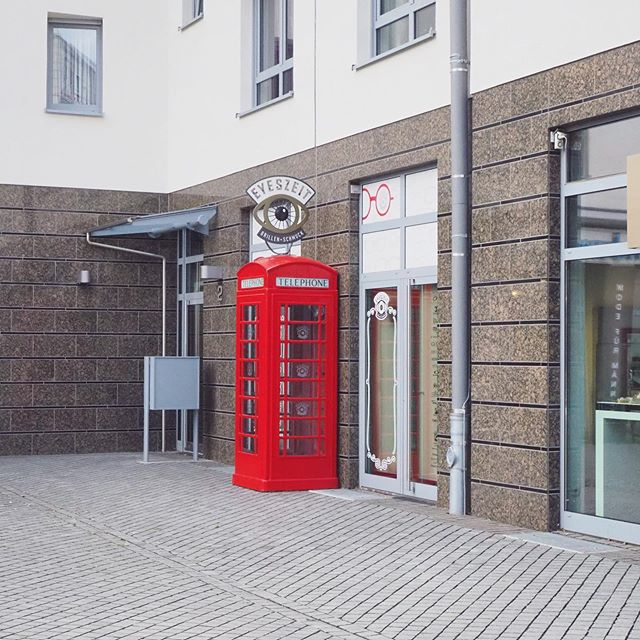building: (13, 1, 640, 491)
phone booth: (225, 254, 343, 496)
sign: (241, 169, 323, 250)
